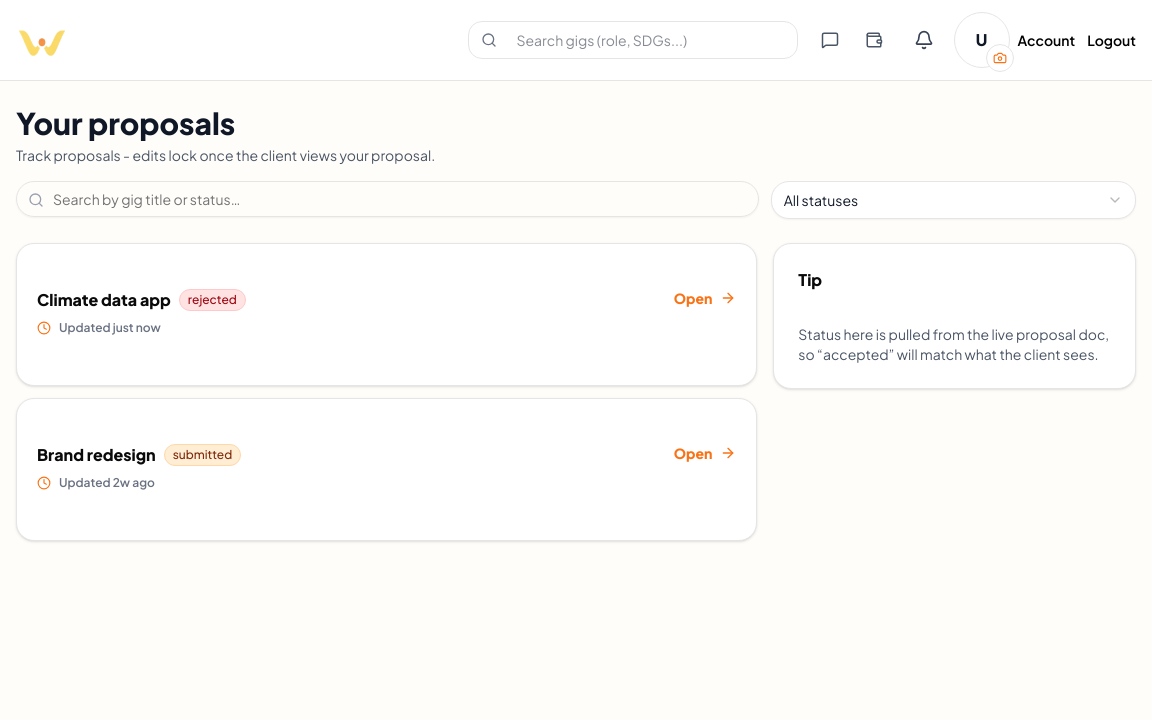
Scenario: Major client and talent UI flows › lists and filters proposal rows from live proposal docs
Expected: the text "Climate data app" is shown, [37,288,171,312]
Expected: the text "Brand redesign" is shown, [37,443,156,467]
Type "Climate" into the field with placeholder "Search by gig title or status…" at [387, 199], box [16,181,759,217]
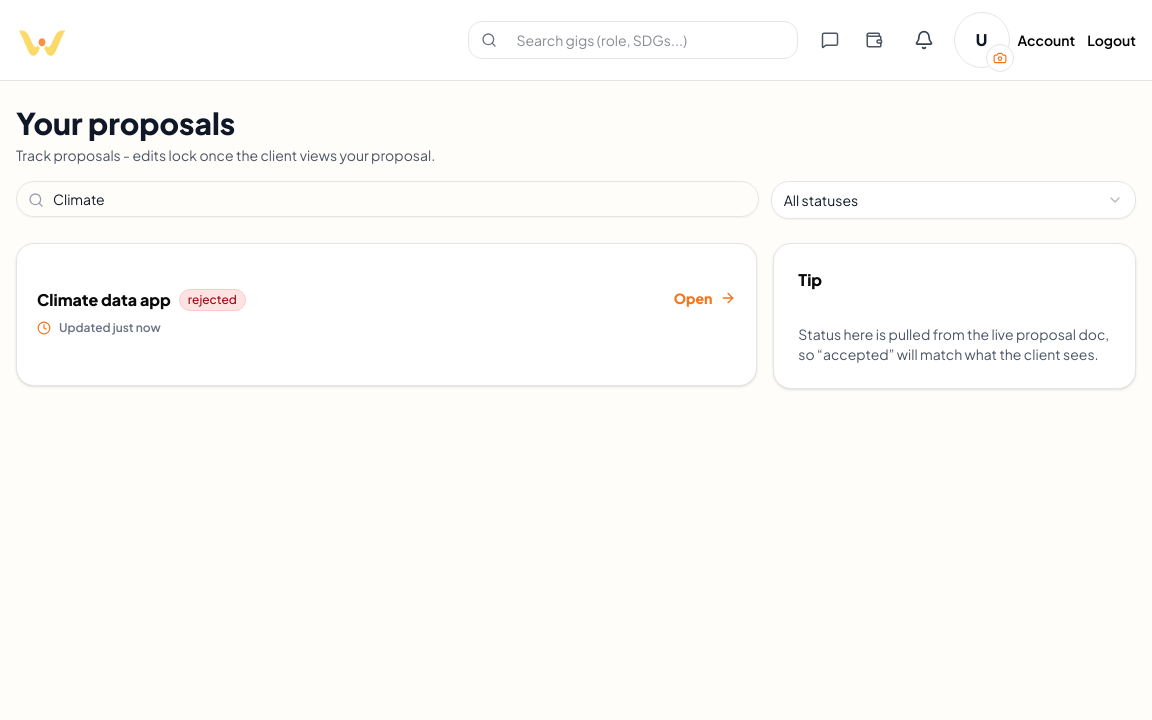
Expected: the text "Climate data app" is shown, [37,288,171,312]
Expected: the link "Brand redesign" is gone
